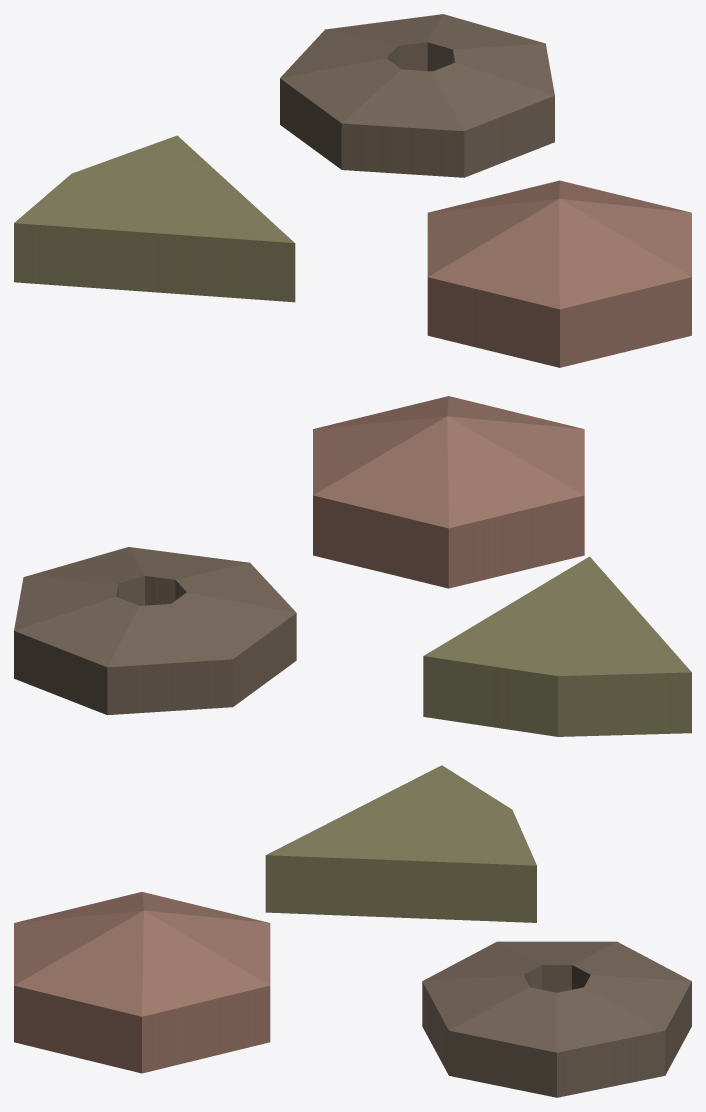
Rendered from Catfood.fbx.
3 renders of one model, top to bottom at view 1: azimuth 30°, elevation 25°; view 2: azimuth 150°, elevation 25°; view 3: azimuth 270°, elevation 25°, orthographic. The views are drawn at different scales.
Visible parts, largest first — view 1: Sphere, Tube, Cube; view 2: Sphere, Tube, Cube; view 3: Sphere, Tube, Cube.
Boxes of the visible parts, x1,y1,x2,y2 form: Sphere: (427, 180, 691, 367); Tube: (280, 14, 554, 177); Cube: (14, 135, 295, 302); Sphere: (313, 396, 584, 588); Tube: (14, 547, 296, 715); Cube: (423, 556, 691, 736); Sphere: (14, 892, 270, 1073); Tube: (422, 941, 691, 1097); Cube: (265, 765, 536, 922).
Bounding box in the file's own units: 7.11 × 1.64 × 7.28.
3 materials, 3 textured.
